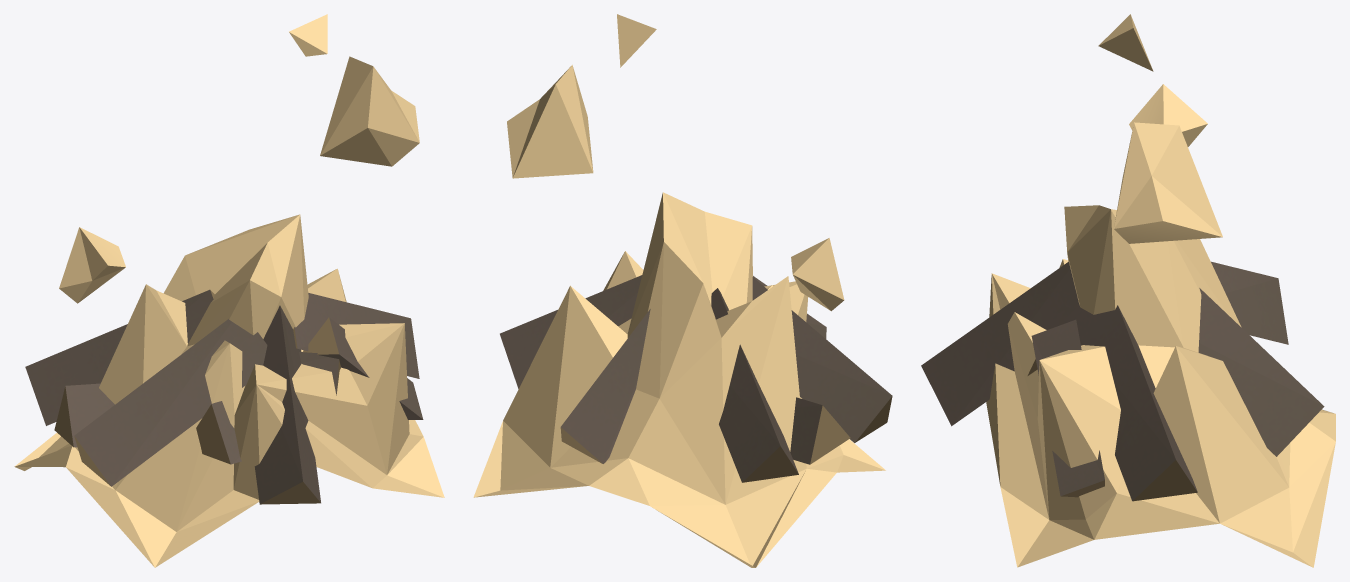
File: Lumber_Fire.fbx
3 renders of one model, left to right at view 1: azimuth 30°, elevation 25°; view 2: azimuth 150°, elevation 25°; view 3: azimuth 270°, elevation 25°, orthographic. The views are drawn at different scales.
Parts seen in each view (by area): view 1: Group55995; view 2: Group55995; view 3: Group55995.
Boxes of the visible parts, <box> form: Group55995: <box>14,14,444,567</box>; Group55995: <box>473,14,892,567</box>; Group55995: <box>921,14,1335,567</box>.
Size of the model in its own units: 120 by 142 by 106.
